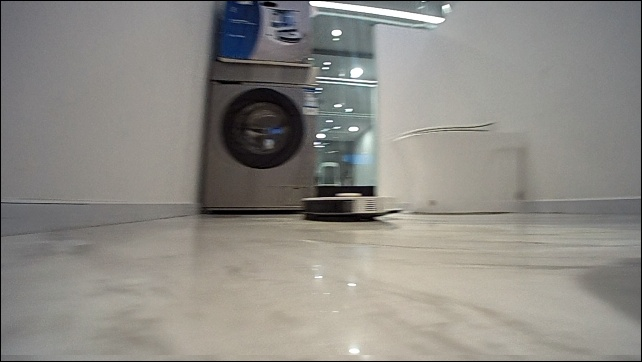toilet: (388, 117, 524, 213)
washing_machine: (201, 60, 321, 212)
